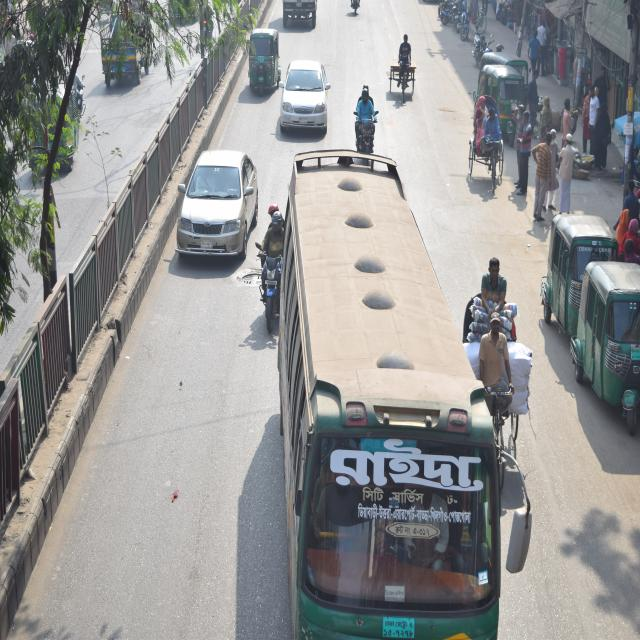bus: (279, 165, 506, 640)
car: (177, 146, 261, 270), (282, 58, 328, 135)
motorbike: (249, 220, 282, 336), (349, 97, 379, 160)
